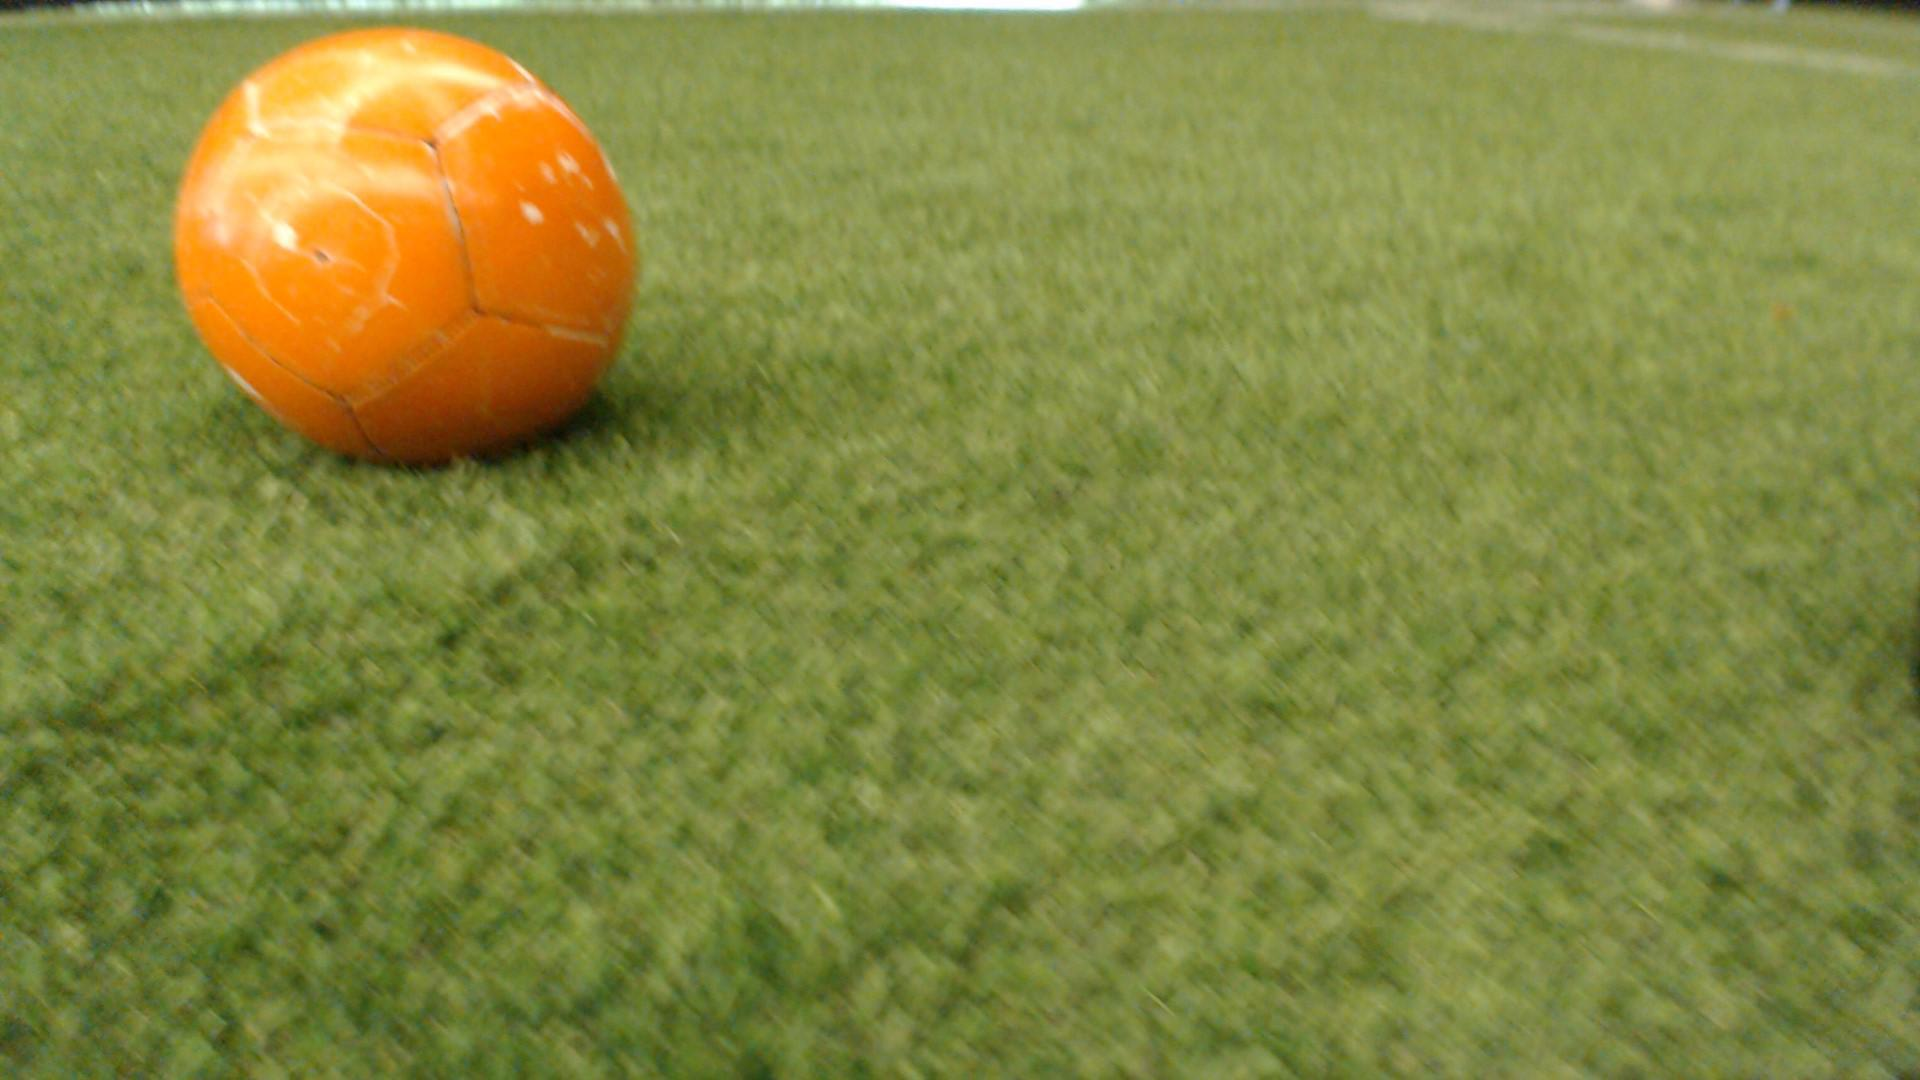bola: (148, 16, 694, 491)
